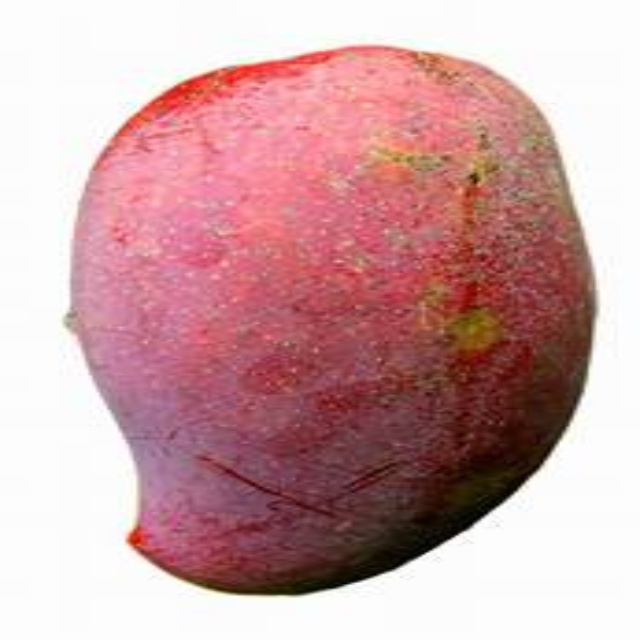mango: (72, 45, 600, 596)
